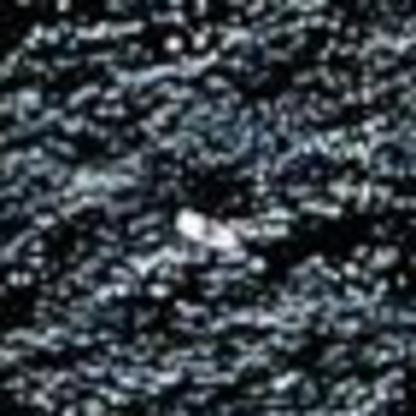ship: (166, 199, 246, 256)
